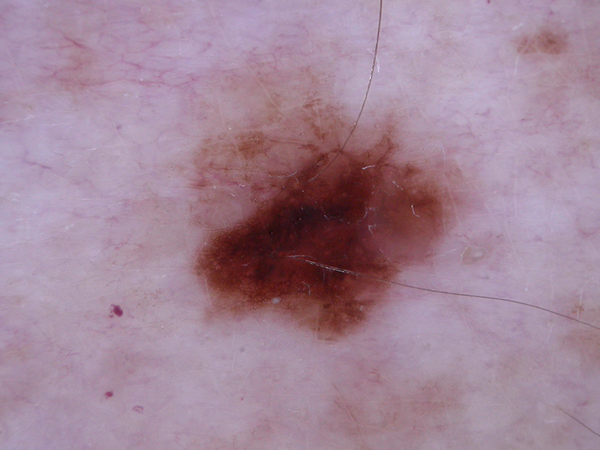Detected Lesion: (188, 91, 453, 347)
